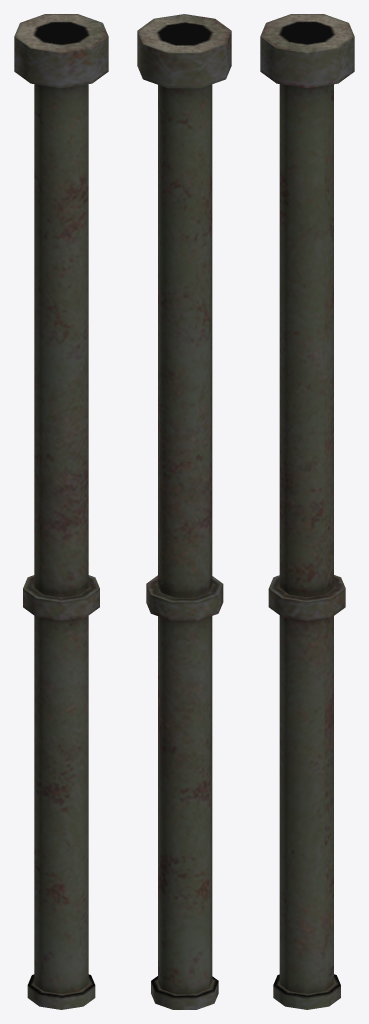
The model's file is Vent_09.fbx.
The picture shows the model from 3 angles, left to right: view 1: azimuth 90°, elevation 25°; view 2: azimuth 150°, elevation 25°; view 3: azimuth 330°, elevation 25°; orthographic projection.
Parts seen in each view (by area): view 1: Vent_9; view 2: Vent_9; view 3: Vent_9.
Boxes of the visible parts, <box> form: Vent_9: <box>14,14,108,1009</box>; Vent_9: <box>137,14,231,1009</box>; Vent_9: <box>260,14,354,1009</box>.
Size of the model in its own units: 25.83 by 295 by 26.22.
